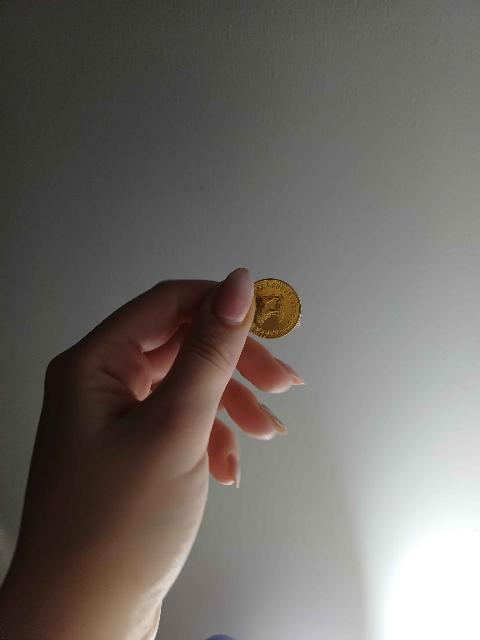1_coin: (250, 279, 301, 338)
